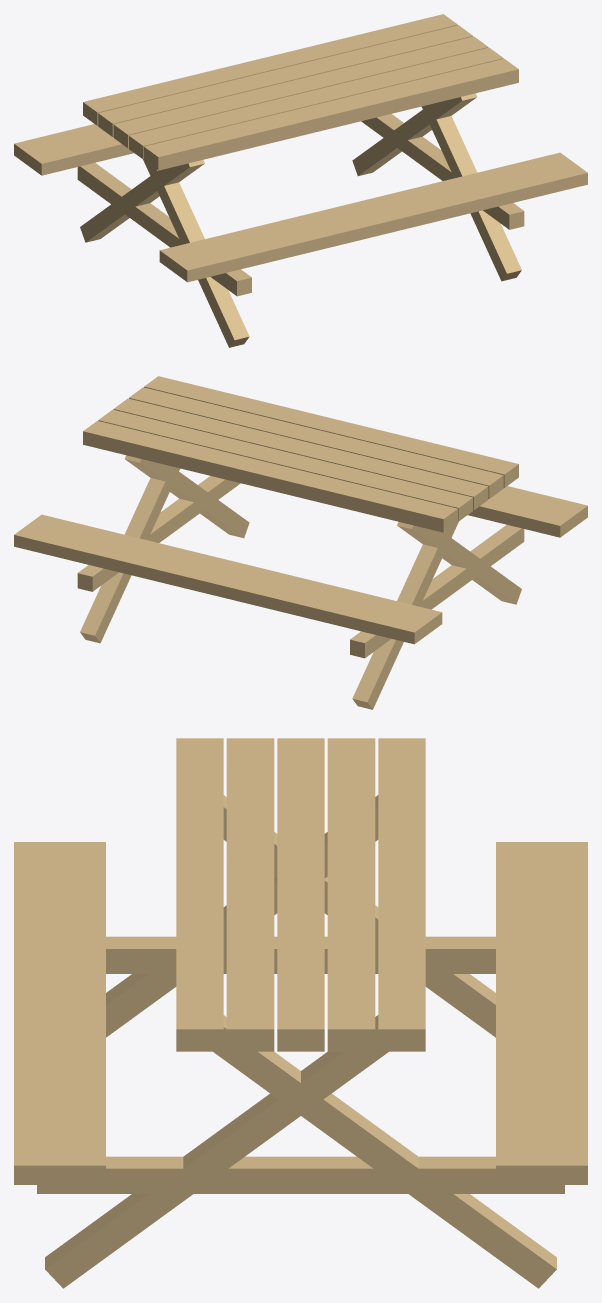
The picture shows the model from 3 angles, top to bottom: view 1: azimuth 30°, elevation 25°; view 2: azimuth 150°, elevation 25°; view 3: azimuth 270°, elevation 25°; orthographic projection. The views are drawn at different scales.
Parts seen in each view (by area): view 1: SW-Y314; view 2: SW-Y314; view 3: SW-Y314.
Boxes of the visible parts, bbox=[...] form: SW-Y314: bbox=[14, 14, 587, 347]; SW-Y314: bbox=[14, 376, 587, 709]; SW-Y314: bbox=[14, 738, 587, 1288].
Size of the model in its own units: 1.2 by 0.5 by 0.9.
